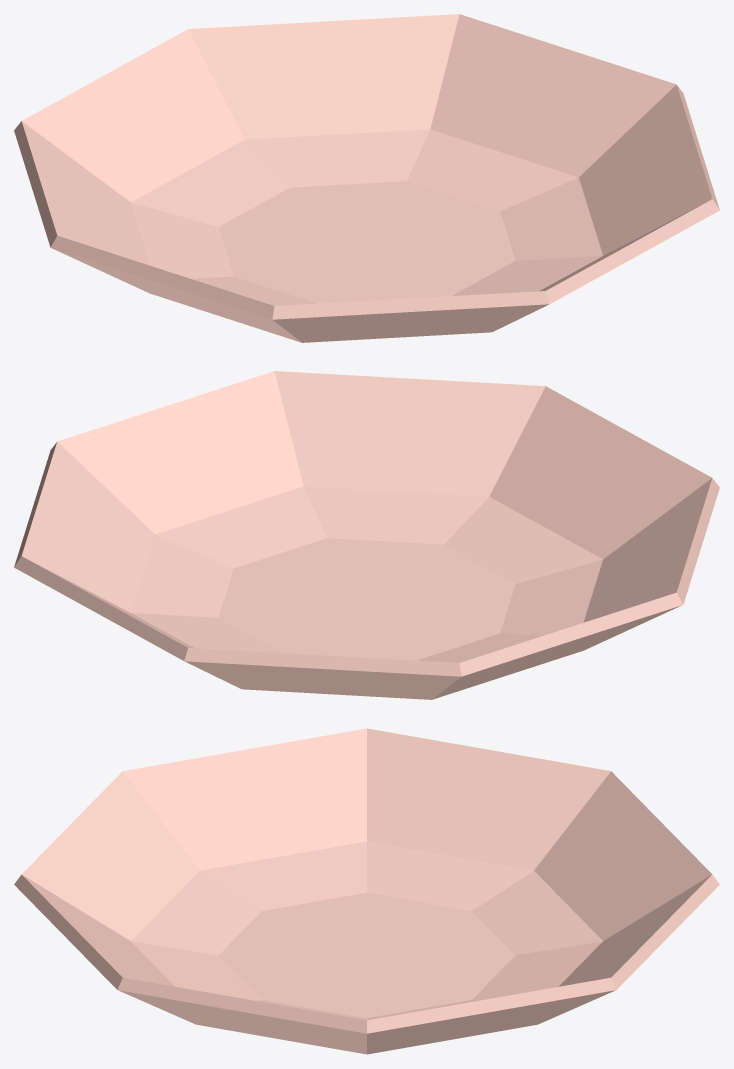
The model's file is Plate.glb.
3 renders of one model, top to bottom at view 1: azimuth 30°, elevation 25°; view 2: azimuth 150°, elevation 25°; view 3: azimuth 270°, elevation 25°, orthographic. The views are drawn at different scales.
Visible parts, largest first — view 1: Plate; view 2: Plate; view 3: Plate.
Boxes of the visible parts, box(x1,y1,x2,y2) form: Plate: box(14, 14, 719, 342); Plate: box(14, 371, 719, 699); Plate: box(14, 728, 719, 1054).
Bounding box in the file's own units: 0.4688 × 0.0683 × 0.4688.
